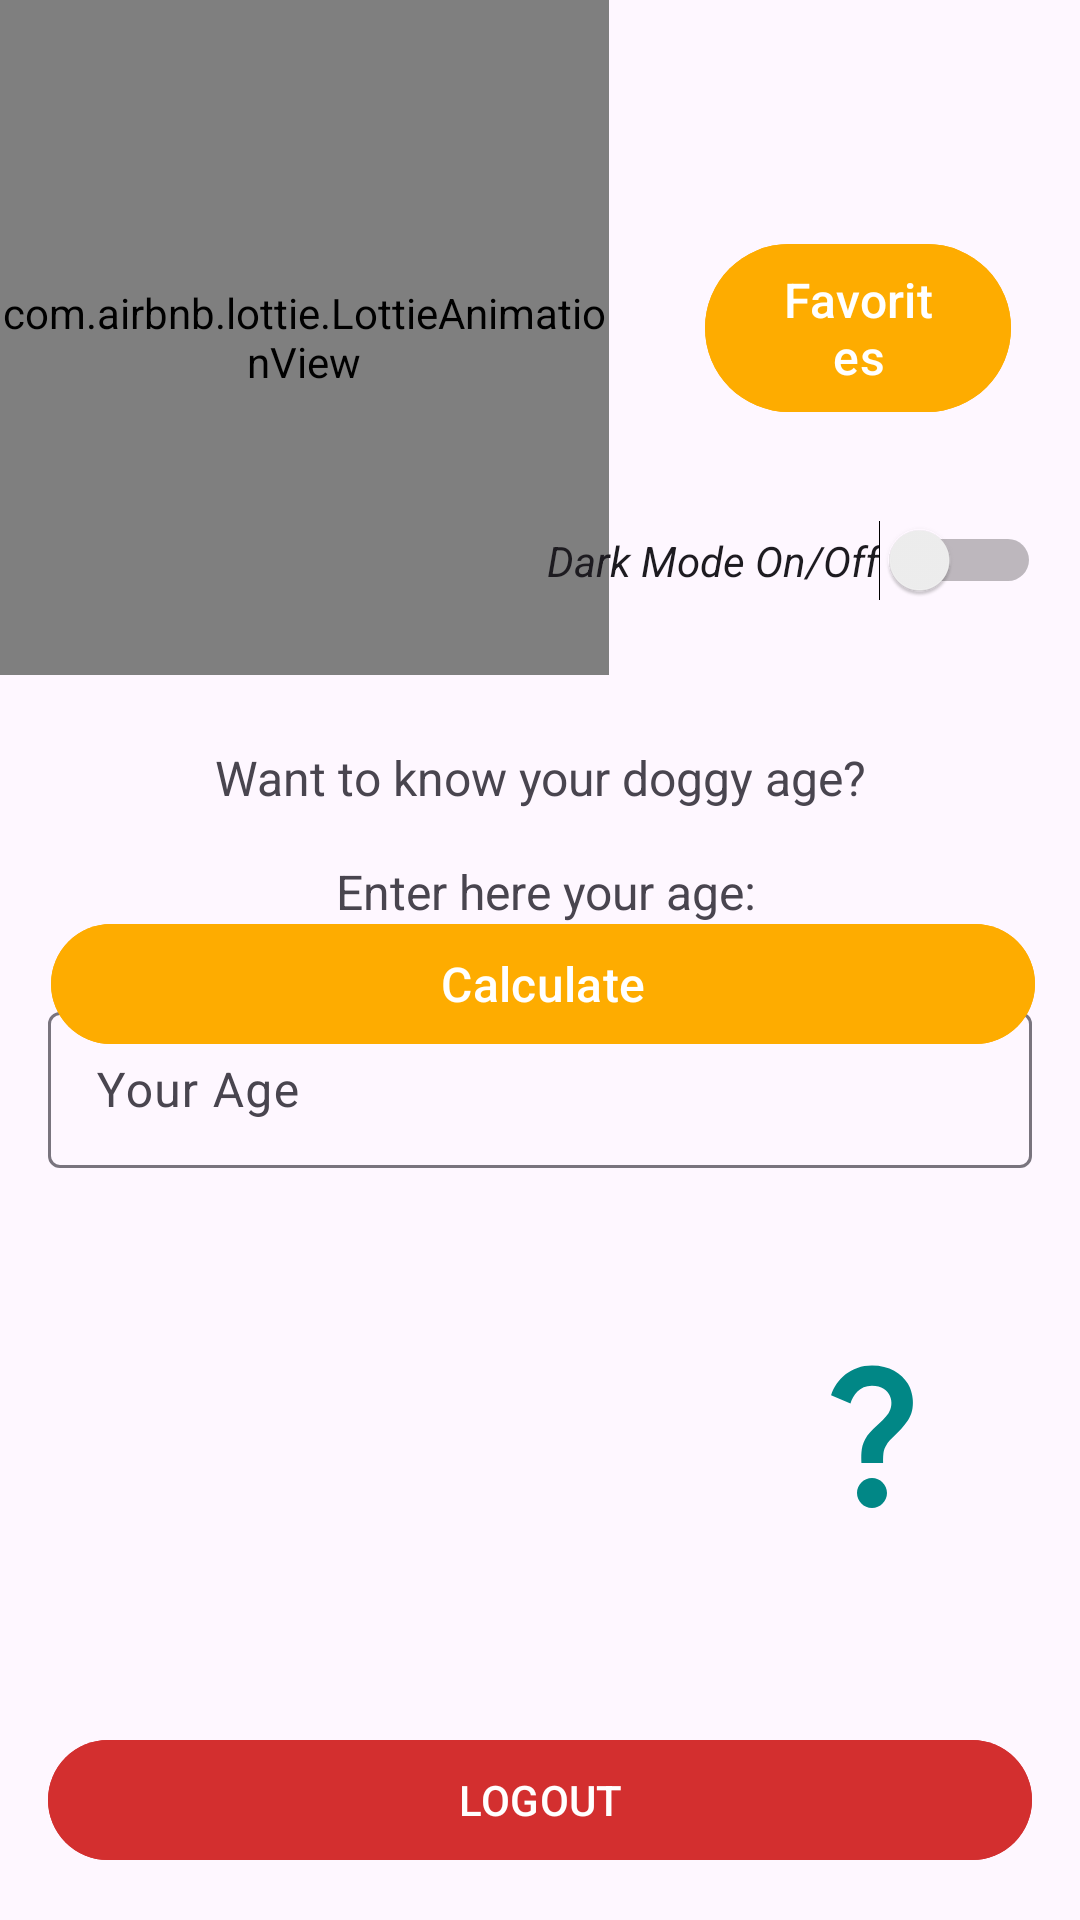

Icon click points for this 1080 × 1920 phone screenshot, format (x,y):
question mark: (872,1436)
